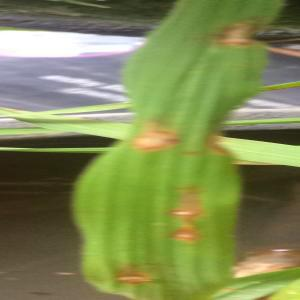1 RiceBlast: (88, 238, 168, 295), (120, 110, 187, 162), (153, 180, 215, 225), (212, 16, 265, 60), (161, 222, 206, 251)
